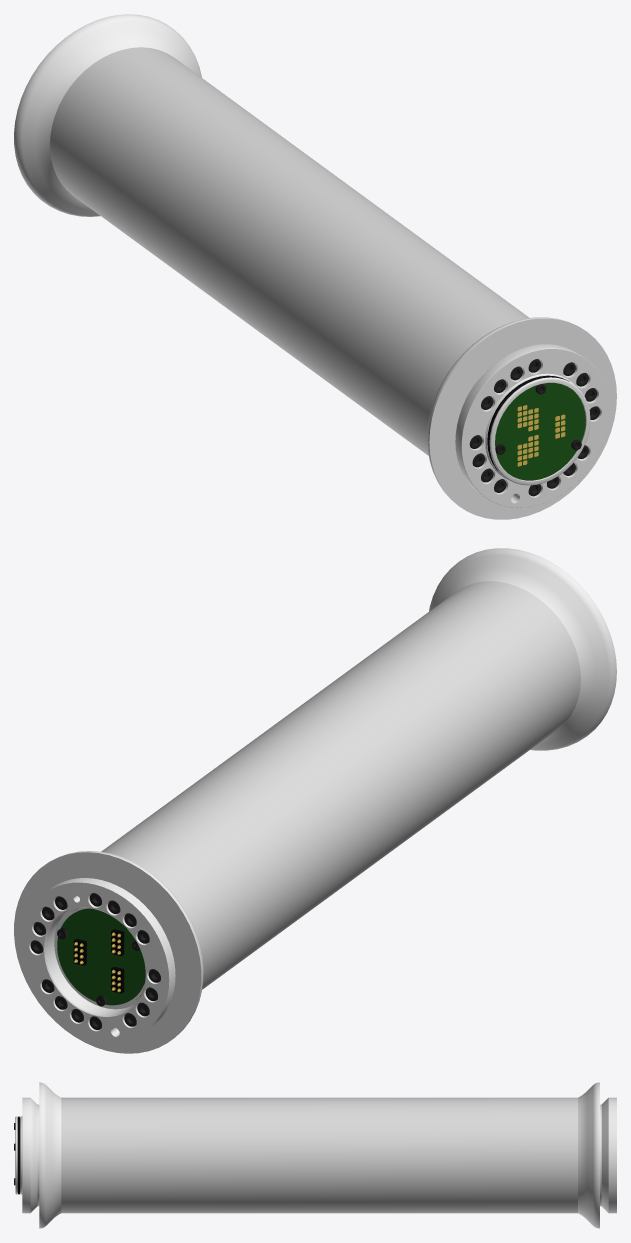
The picture shows the model from 3 angles, top to bottom: view 1: azimuth 30°, elevation 25°; view 2: azimuth 150°, elevation 25°; view 3: azimuth 270°, elevation 25°; orthographic projection. The views are drawn at different scales.
Parts seen in each view (by area): view 1: I86.001; view 2: I86.001; view 3: I86.001.
Part boxes in pixels (left/top/right/bottom): I86.001: left=14, top=14, right=616, bottom=519; I86.001: left=14, top=548, right=616, bottom=1053; I86.001: left=14, top=1082, right=616, bottom=1228.
Size of the model in its own units: 0.086 by 0.086 by 0.3548.
